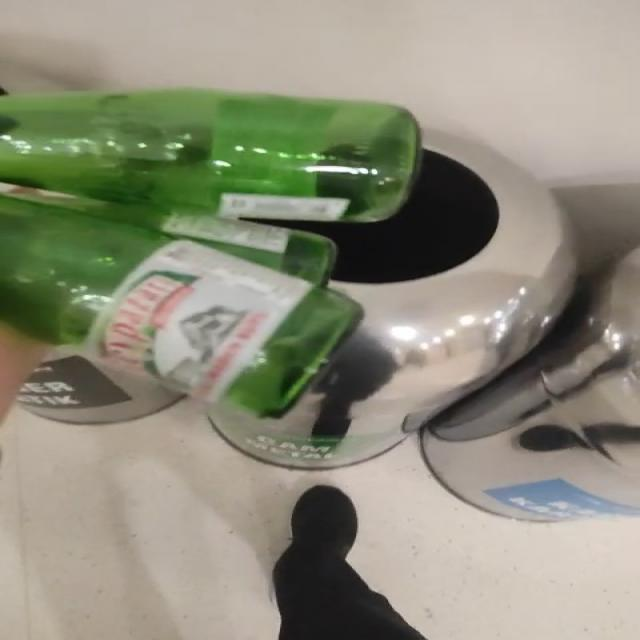glass: (1, 89, 421, 417)
